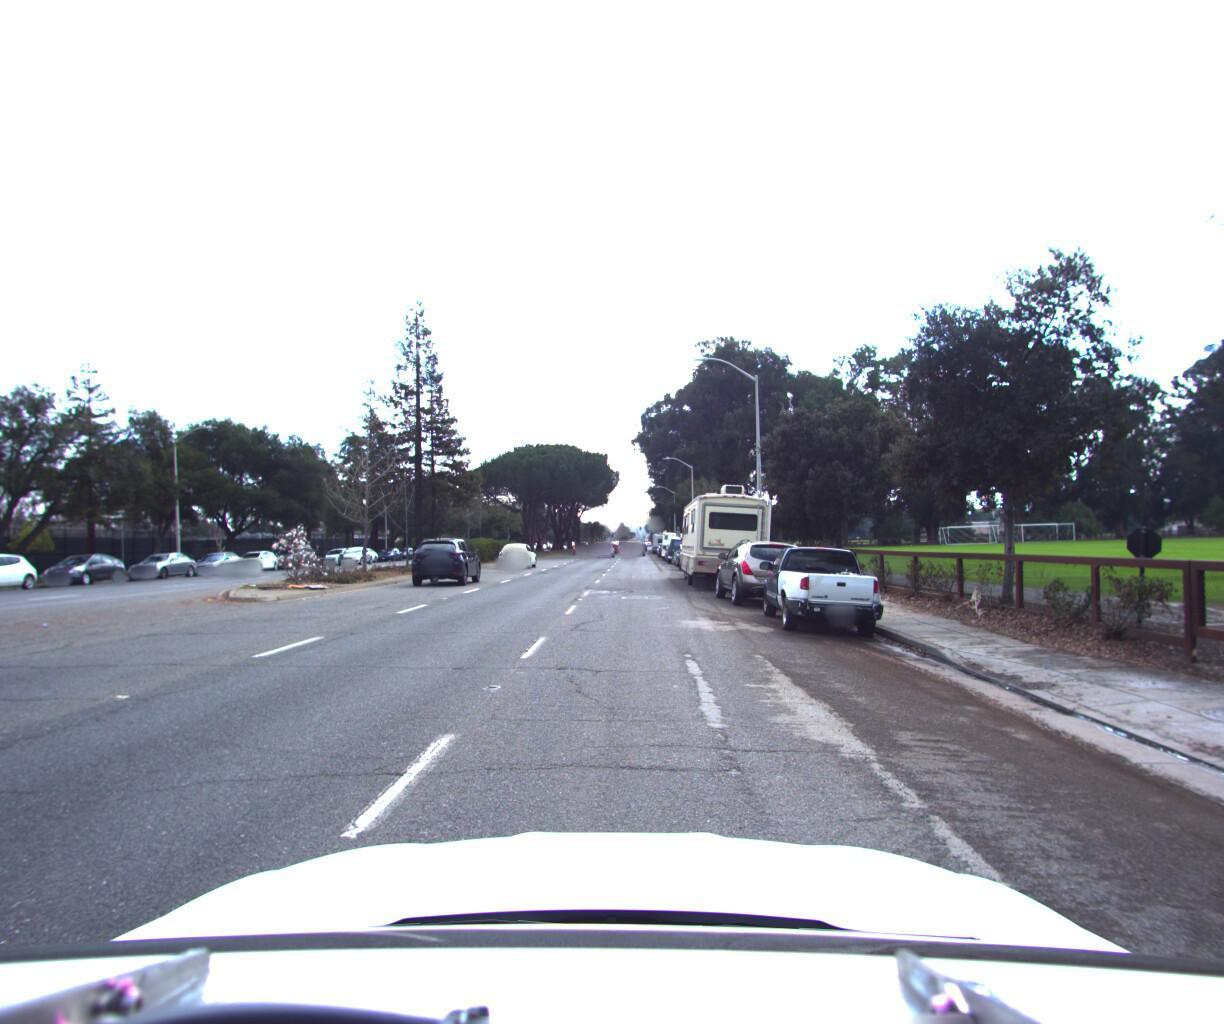car: (751, 535, 892, 641), (708, 525, 815, 604), (406, 531, 483, 585), (38, 547, 135, 586), (122, 546, 204, 578), (0, 545, 48, 592), (187, 545, 251, 573), (230, 544, 282, 570), (497, 535, 538, 565), (662, 529, 696, 557), (334, 539, 375, 560), (593, 534, 617, 553)
other_vehicle: (675, 476, 782, 584), (657, 521, 691, 554)
